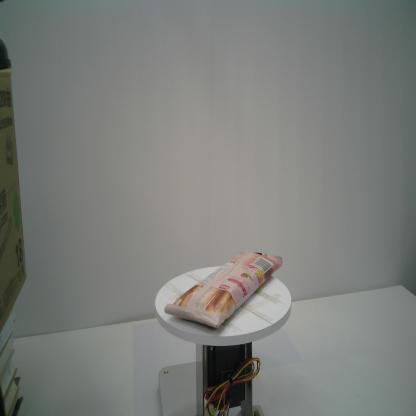Dessert: (163, 247, 283, 331)
